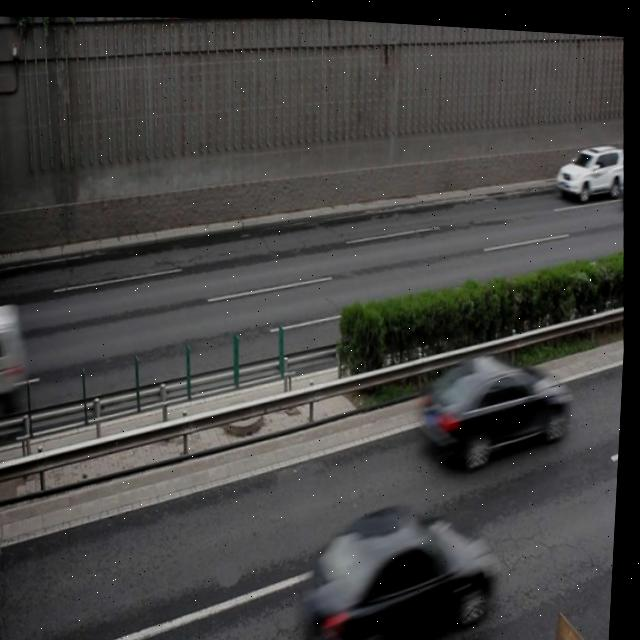car: (305, 494, 506, 640), (424, 343, 572, 466), (555, 136, 628, 199)
